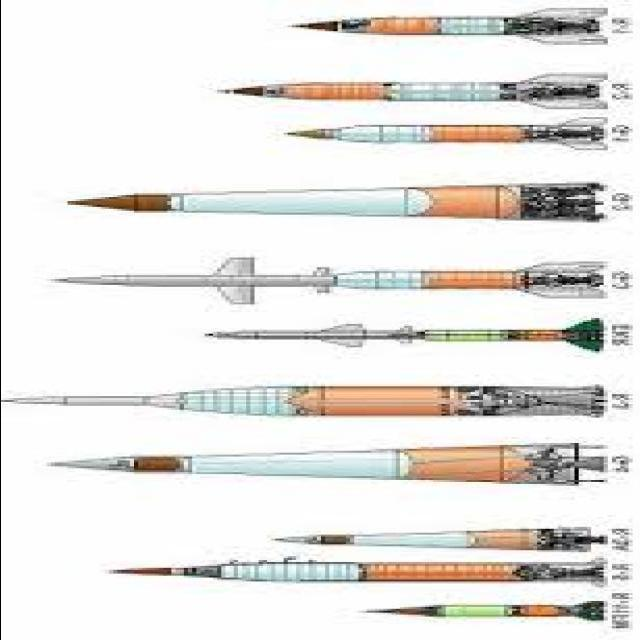Missile: (45, 173, 609, 225), (9, 380, 614, 420), (213, 74, 625, 111), (288, 116, 613, 151), (289, 9, 623, 43), (260, 522, 604, 555), (354, 597, 613, 629)
